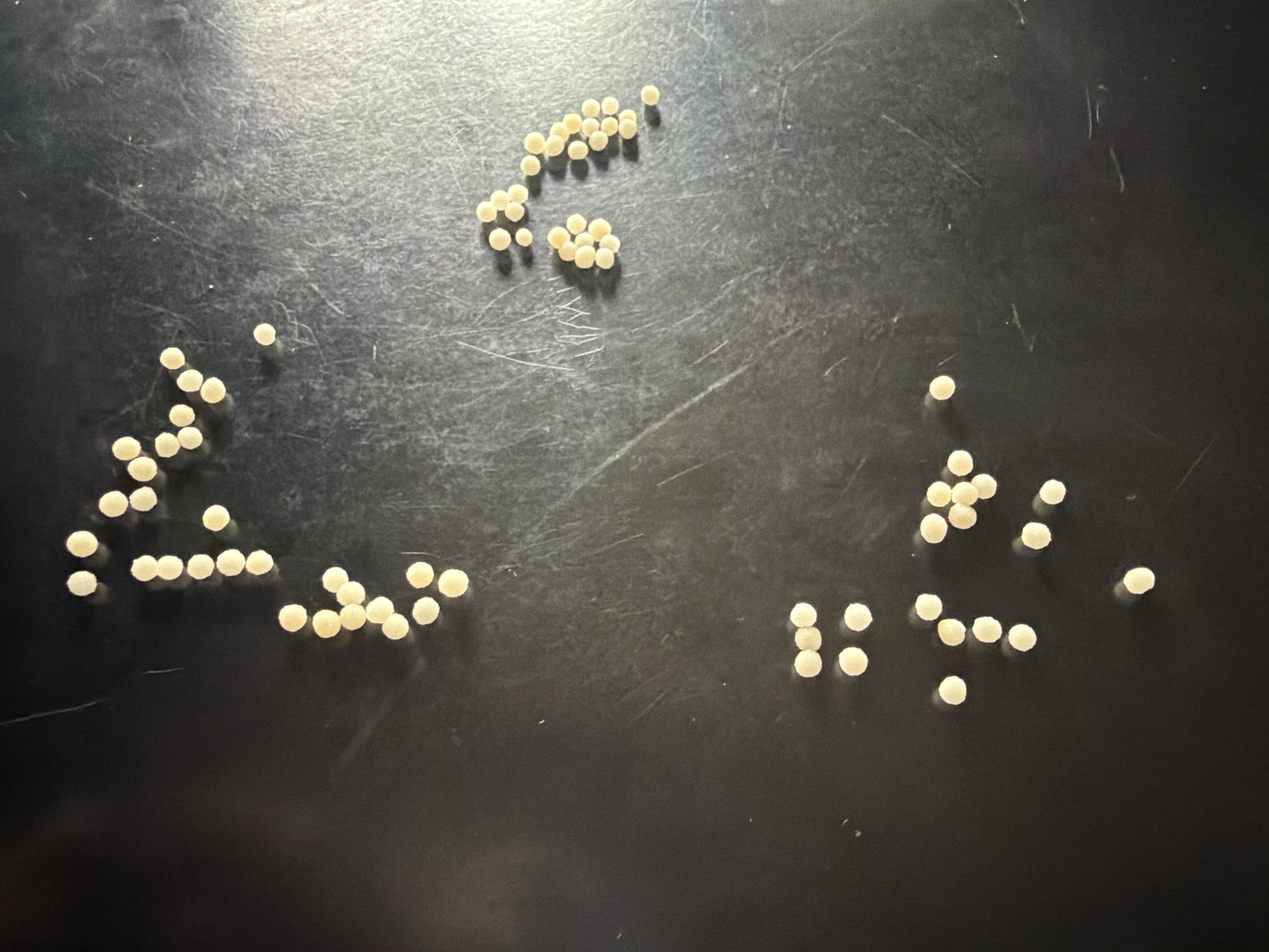pill: (65, 530, 99, 558), (437, 569, 469, 598), (1122, 567, 1155, 595), (938, 675, 967, 706), (838, 647, 868, 676), (1020, 522, 1051, 550), (843, 603, 872, 632), (216, 548, 245, 577), (278, 604, 307, 633), (1007, 624, 1037, 652), (971, 616, 1002, 643), (937, 618, 966, 646), (313, 609, 341, 638), (411, 596, 439, 625), (366, 596, 395, 624), (947, 503, 977, 530), (99, 491, 129, 518), (920, 514, 947, 544), (914, 593, 942, 621), (202, 504, 230, 532), (405, 561, 434, 588), (67, 571, 97, 597), (111, 436, 141, 462), (127, 456, 157, 482), (199, 377, 227, 404), (381, 613, 409, 640), (155, 555, 184, 581), (186, 554, 215, 580), (245, 550, 274, 576), (128, 486, 157, 512), (794, 651, 822, 677), (321, 567, 349, 593), (926, 480, 952, 508), (339, 605, 367, 631), (335, 581, 365, 605), (970, 473, 997, 499), (131, 555, 157, 582), (789, 603, 817, 628), (176, 368, 204, 393), (155, 432, 181, 458), (947, 450, 973, 476), (951, 481, 978, 506), (1039, 480, 1066, 505), (168, 403, 195, 428), (929, 375, 955, 400), (795, 627, 822, 651), (159, 347, 185, 371), (176, 427, 203, 450), (586, 218, 612, 240), (253, 323, 276, 347), (523, 131, 545, 155), (547, 226, 569, 250), (544, 134, 566, 157), (488, 228, 510, 251), (574, 245, 595, 269), (520, 155, 542, 177), (588, 129, 609, 152), (489, 189, 510, 211), (476, 201, 497, 223), (595, 247, 615, 270), (565, 214, 586, 235), (599, 234, 620, 255), (507, 183, 529, 203), (567, 140, 589, 160), (548, 122, 570, 142), (562, 113, 582, 134), (504, 202, 525, 222), (557, 240, 576, 262), (600, 116, 619, 138), (618, 118, 637, 139), (581, 117, 599, 139), (640, 85, 659, 105), (573, 230, 595, 247), (514, 228, 533, 247), (601, 96, 619, 116), (581, 99, 600, 117), (618, 108, 636, 121)
